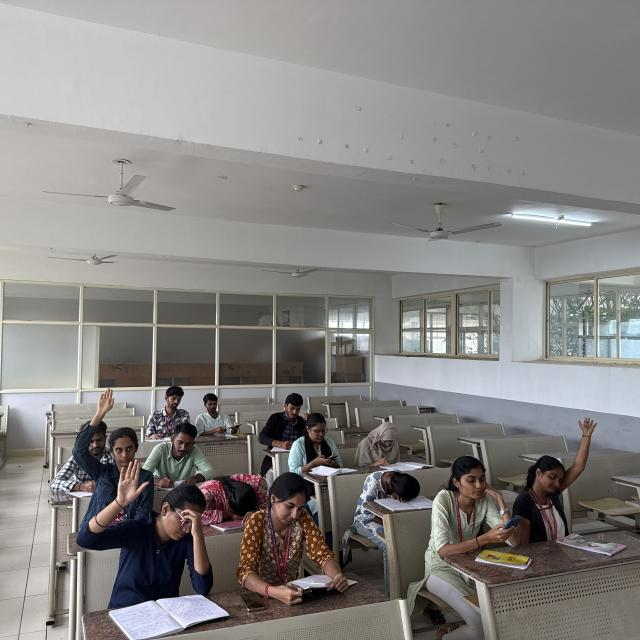Hand Rising: (90, 462, 219, 592), (514, 419, 601, 528), (72, 386, 142, 488)
Reading: (244, 470, 348, 595), (356, 417, 416, 467)
Sleeping: (202, 464, 272, 519), (361, 466, 426, 505)
Using Phone: (435, 452, 528, 546), (294, 411, 349, 471), (200, 393, 243, 444)
Writing: (150, 419, 213, 488), (257, 391, 310, 453)
